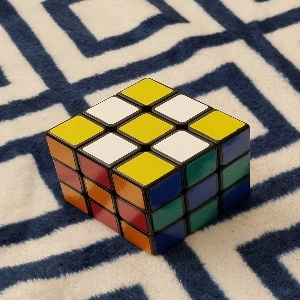cube: (45, 78, 252, 257)
